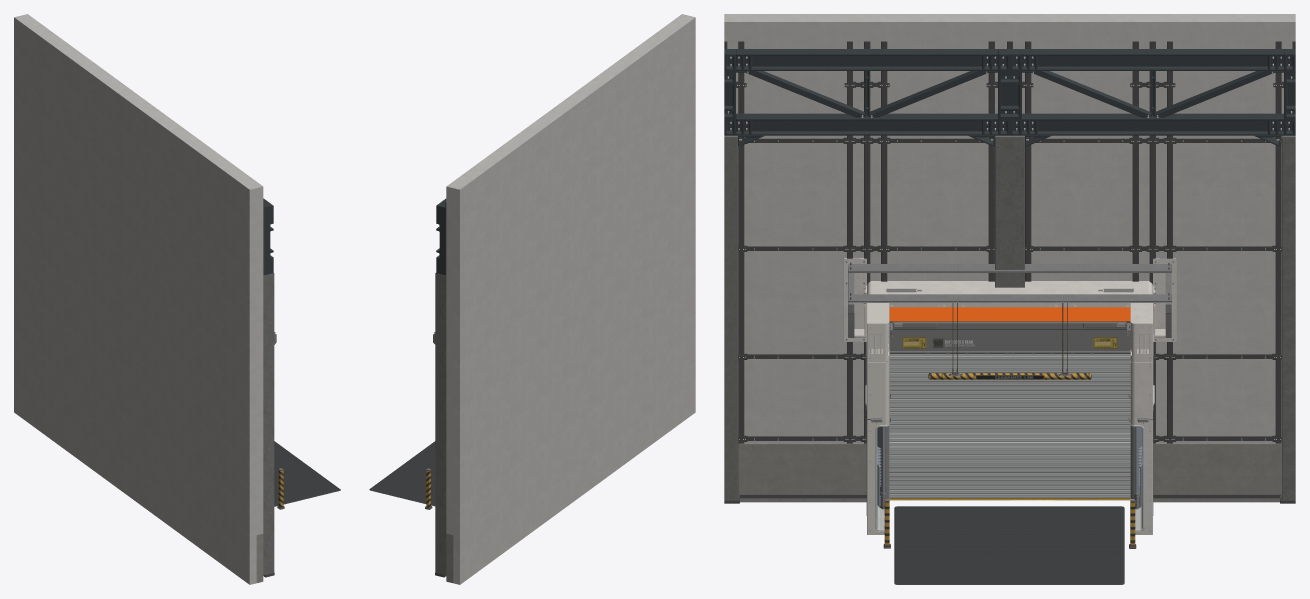
File: structure_wall_entrance_a01.glb
3 views of the same model, side by side, from view 1: azimuth 30°, elevation 25°; view 2: azimuth 150°, elevation 25°; view 3: azimuth 270°, elevation 25° (orthographic). The views are drawn at different scales.
Parts seen in each view (by area): view 1: wall_01_mesh_00, carpet_floor_01_mesh_00; view 2: wall_01_mesh_00, carpet_floor_01_mesh_00; view 3: wall_01_mesh_00, body_entrance_01_mesh_00, carpet_floor_01_mesh_00, body_entrance_04_mesh_00, beam_top_01_mesh_00, body_entrance_03_mesh_00, body_entrance_02_mesh_00, glass_01_mesh_00, beam_left_01_mesh_00, beam_right_01_mesh_00, body_entrance_05_mesh_00.
Boxes of the visible parts, x1=… form: wall_01_mesh_00: x1=14, y1=14, x2=274, y2=584; carpet_floor_01_mesh_00: x1=274, y1=441, x2=340, y2=506; wall_01_mesh_00: x1=435, y1=14, x2=695, y2=584; carpet_floor_01_mesh_00: x1=369, y1=441, x2=435, y2=506; wall_01_mesh_00: x1=724, y1=14, x2=1295, y2=503; body_entrance_01_mesh_00: x1=884, y1=323, x2=1135, y2=500; carpet_floor_01_mesh_00: x1=894, y1=506, x2=1124, y2=584; body_entrance_04_mesh_00: x1=867, y1=281, x2=1152, y2=323; beam_top_01_mesh_00: x1=848, y1=262, x2=1171, y2=302; body_entrance_03_mesh_00: x1=1127, y1=303, x2=1154, y2=534; body_entrance_02_mesh_00: x1=865, y1=303, x2=892, y2=534; glass_01_mesh_00: x1=889, y1=307, x2=1130, y2=321; beam_left_01_mesh_00: x1=843, y1=258, x2=866, y2=341; beam_right_01_mesh_00: x1=1153, y1=258, x2=1176, y2=341; body_entrance_05_mesh_00: x1=928, y1=303, x2=1091, y2=379.
Size of the model in its own units: 4.77 by 11.1 by 12.
20 materials, 17 textured.
